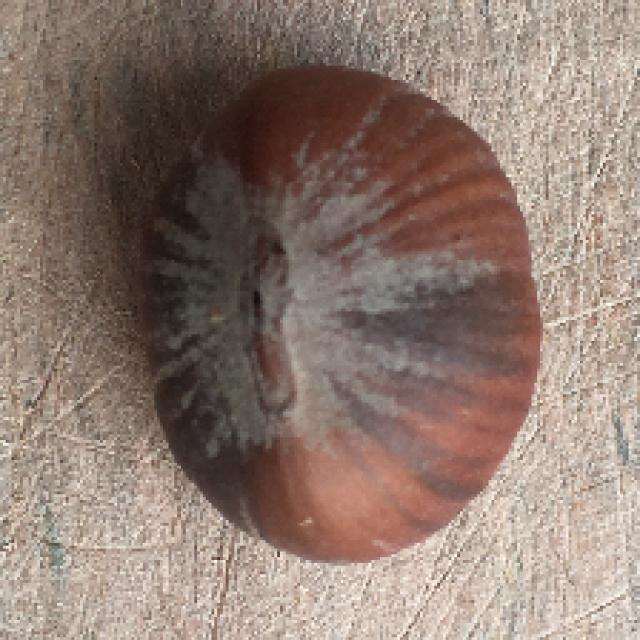DamagedHazelnut: (138, 64, 549, 565)
